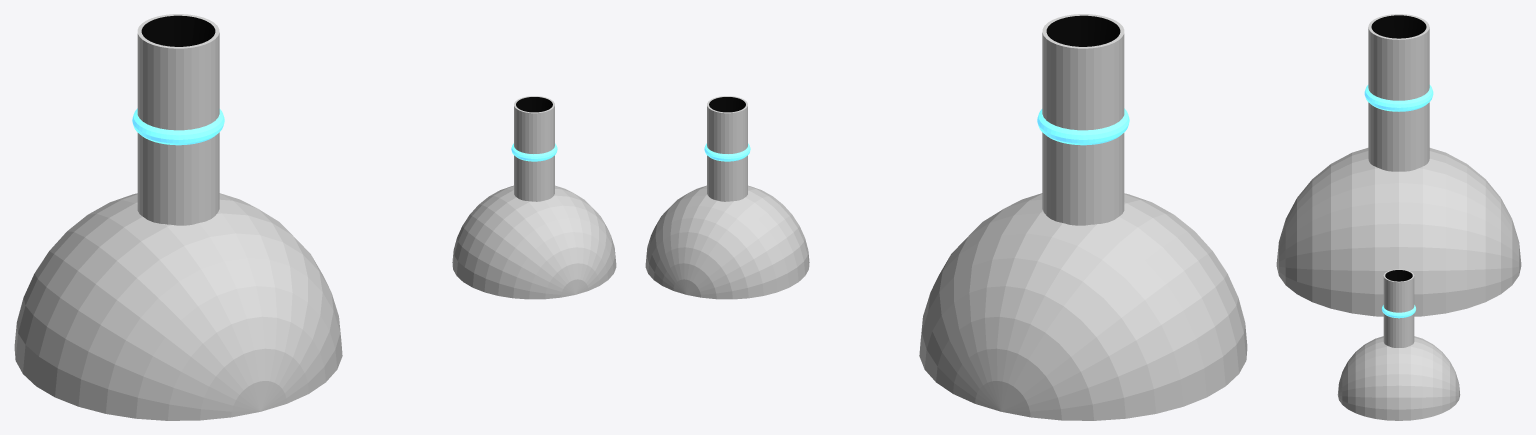
The model's file is Mountables_P2.fbx.
3 renders of one model, left to right at view 1: azimuth 30°, elevation 25°; view 2: azimuth 150°, elevation 25°; view 3: azimuth 270°, elevation 25°, orthographic. The views are drawn at different scales.
Visible parts, largest first — view 1: Half Sphere.003, Cylinder.001, Half Sphere.002, Cylinder, Torus.002; view 2: Half Sphere.003, Cylinder.001, Half Sphere.002, Cylinder, Torus.002; view 3: Half Sphere.003, Cylinder.001, Half Sphere.002, Cylinder, Torus.002.
Boxes of the visible parts, x1,y1,x2,y2 form: Half Sphere.003: [14, 193, 342, 420]; Cylinder.001: [137, 14, 219, 225]; Half Sphere.002: [452, 185, 616, 299]; Cylinder: [514, 96, 554, 201]; Torus.002: [132, 108, 224, 145]; Half Sphere.003: [919, 193, 1247, 420]; Cylinder.001: [1042, 14, 1124, 225]; Half Sphere.002: [645, 185, 809, 299]; Cylinder: [707, 96, 747, 201]; Torus.002: [1037, 108, 1129, 145]; Half Sphere.003: [1276, 148, 1521, 316]; Cylinder.001: [1368, 14, 1429, 171]; Half Sphere.002: [1337, 336, 1460, 420]; Cylinder: [1383, 269, 1414, 347]; Torus.002: [1364, 85, 1433, 111].
Size of the model in its own units: 800 by 430 by 400.
